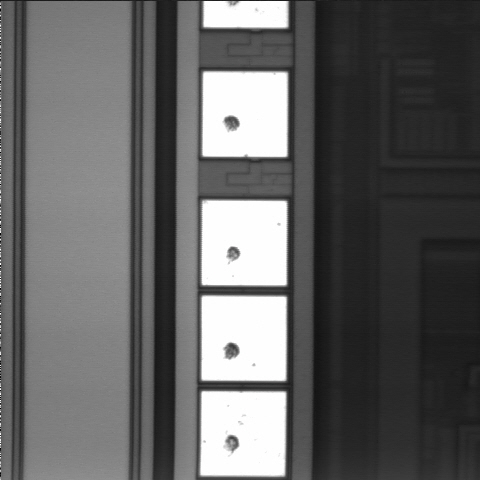pad: (200, 391, 286, 476), (202, 72, 287, 157), (202, 201, 287, 285), (202, 296, 286, 381)
